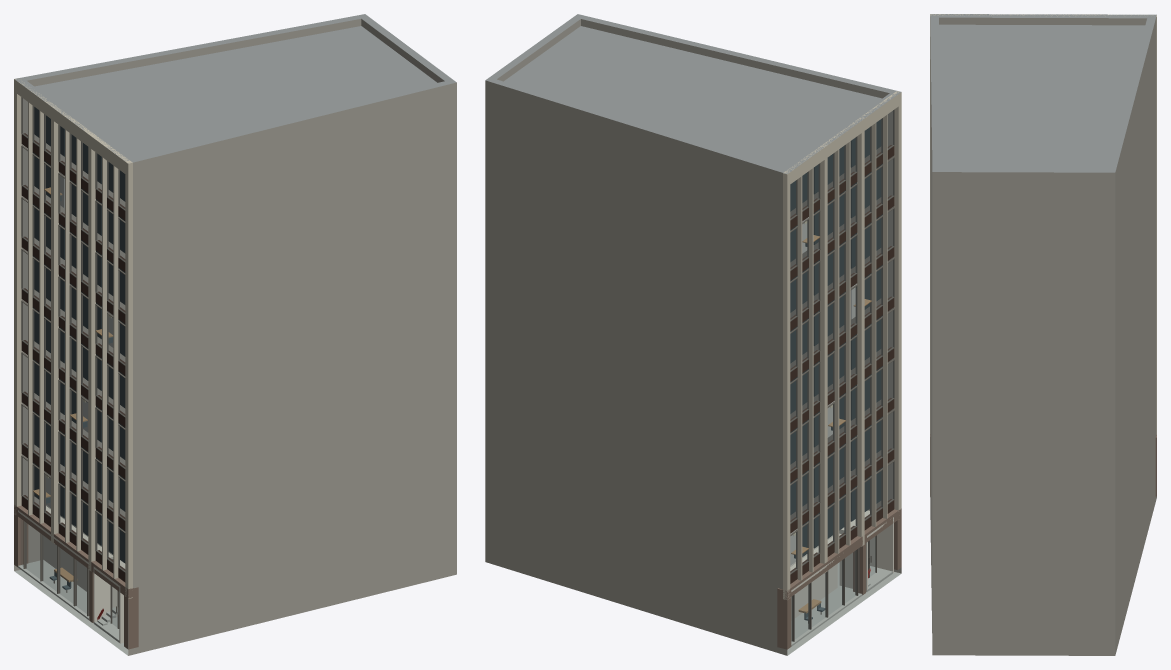
The model's file is d11-higashinihon035.glb.
3 views of the same model, side by side, from view 1: azimuth 30°, elevation 25°; view 2: azimuth 150°, elevation 25°; view 3: azimuth 270°, elevation 25° (orthographic). The views are drawn at different scales.
Visible parts, largest first — view 1: DERIVED_SourceEnvelope__Roof, INFERRED_WindowRecess__Clear shallow glazing; view 2: DERIVED_SourceEnvelope__Roof, INFERRED_WindowRecess__Clear shallow glazing; view 3: DERIVED_SourceEnvelope__Roof.
Boxes of the visible parts, left/top/right/bottom form: DERIVED_SourceEnvelope__Roof: left=14, top=14, right=456, bottom=655; INFERRED_WindowRecess__Clear shallow glazing: left=21, top=98, right=124, bottom=626; DERIVED_SourceEnvelope__Roof: left=485, top=14, right=901, bottom=655; INFERRED_WindowRecess__Clear shallow glazing: left=791, top=110, right=893, bottom=640; DERIVED_SourceEnvelope__Roof: left=930, top=14, right=1156, bottom=655.
Bounding box in the file's own units: 22.6 × 32.09 × 13.65.
Materials: 2 (1 with a texture image).
